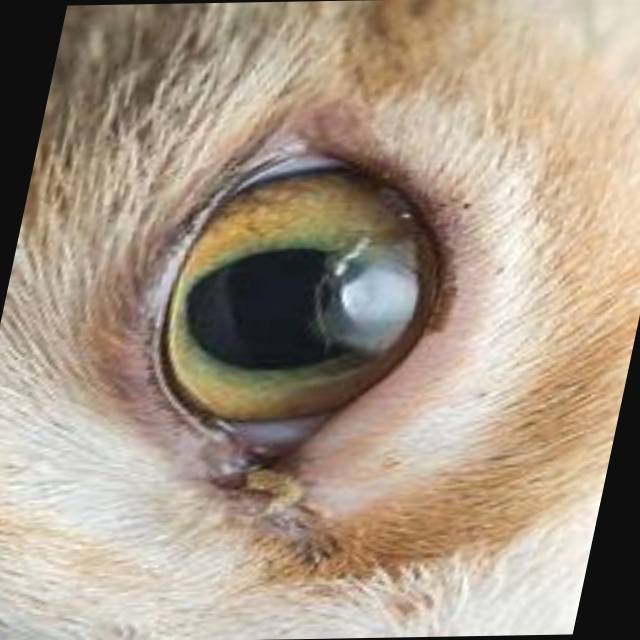eye_infection: (114, 126, 489, 497)
